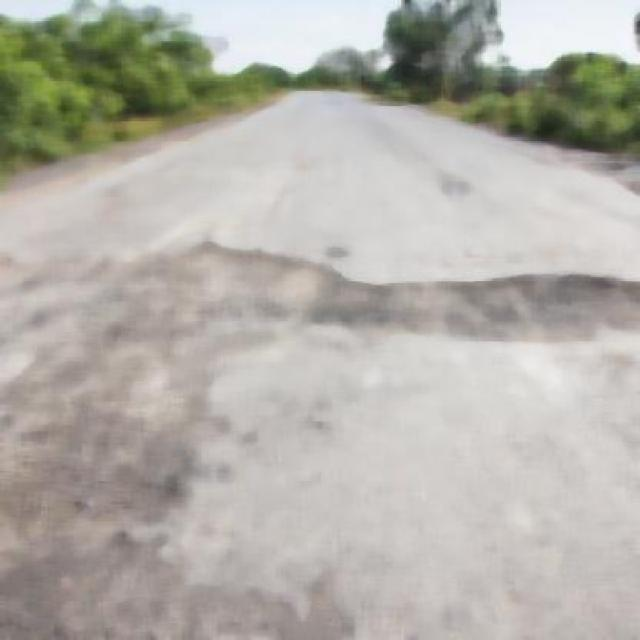Pothole: (126, 238, 639, 356)
